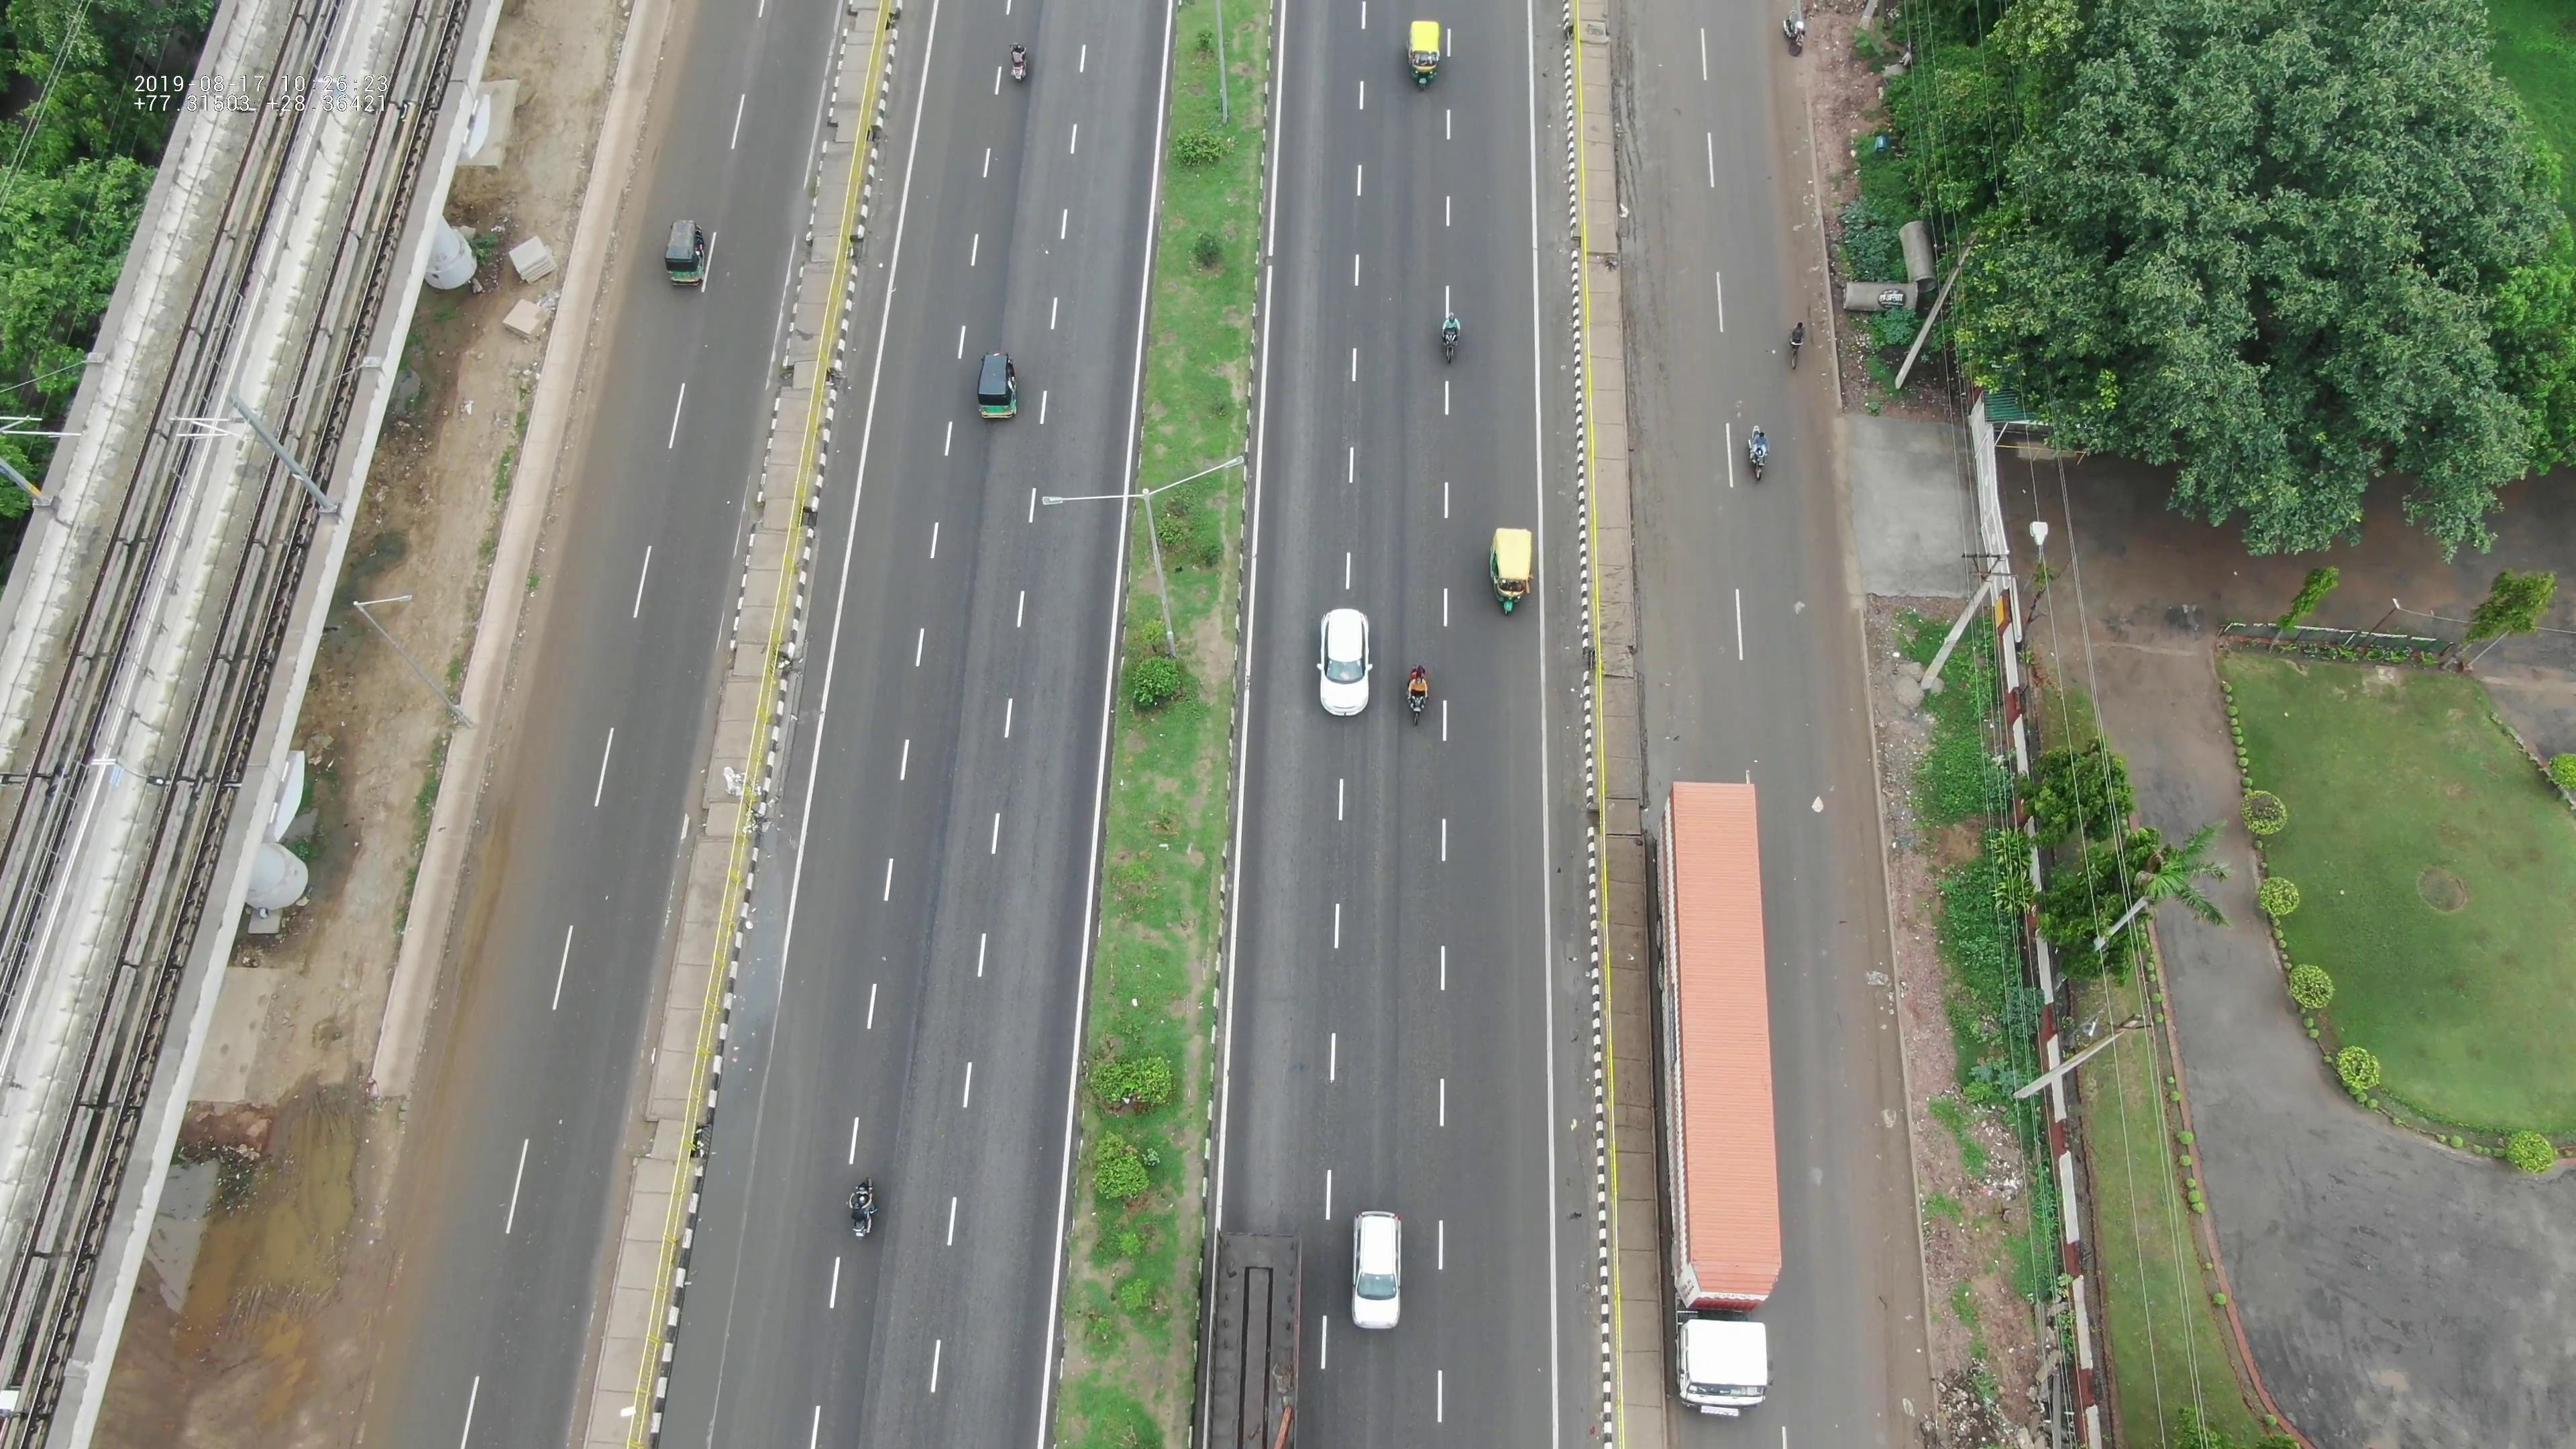Muddy_road: (1614, 74, 1700, 414), (1842, 1221, 1923, 1433), (1821, 991, 1902, 1200), (1762, 88, 1835, 303), (1806, 734, 1879, 947)
